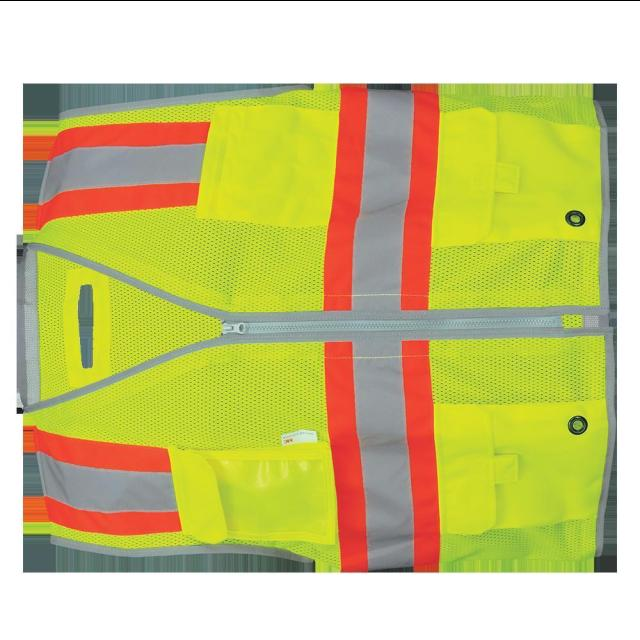jacket: (21, 78, 623, 574)
